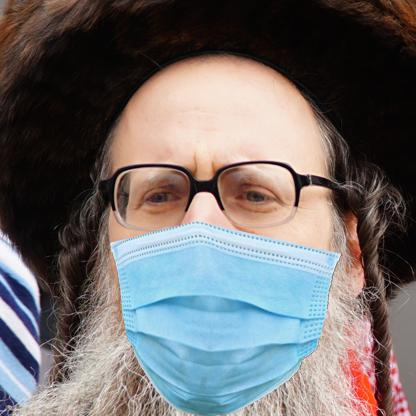mask: (105, 222, 344, 416), (110, 224, 342, 413)
